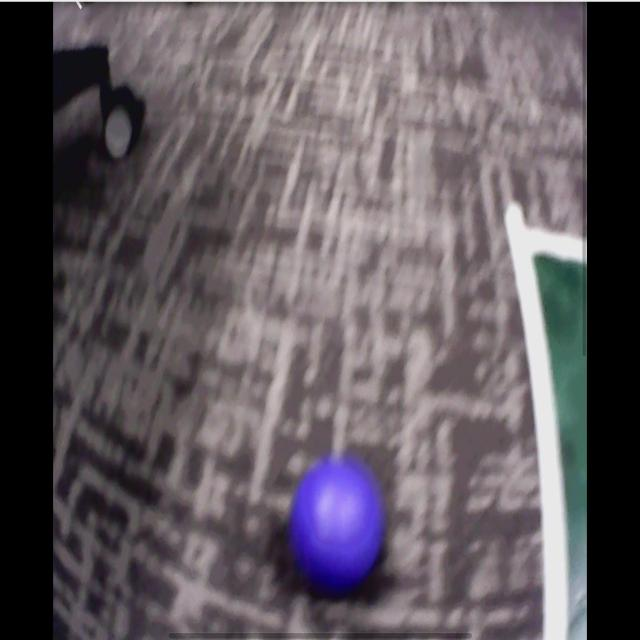ball: (295, 450, 380, 587)
